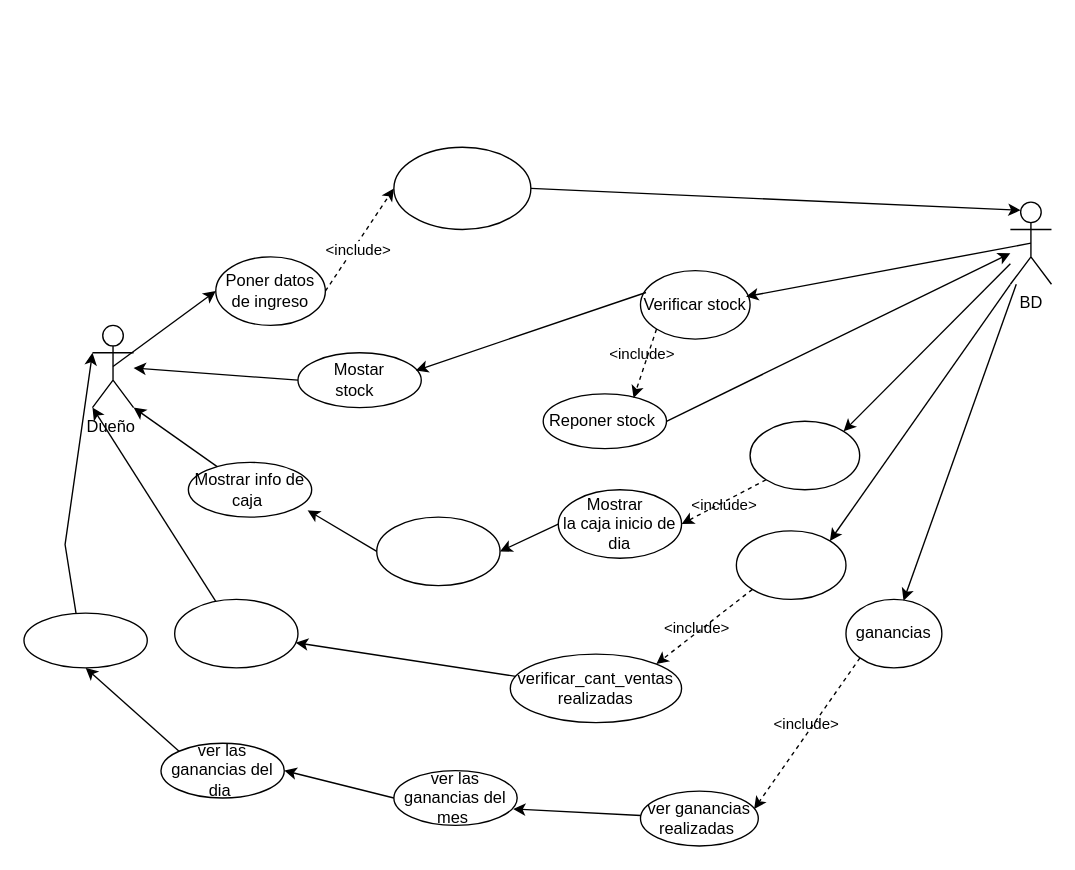
Image size: 1075x870. Some labels were removed from this diagram. Each missing label, with the centre of its shape:
"Iniciar sesion" belongs at pixel 462 187.
"Mostrar la caja final de dia" belongs at pixel 437 551.
"Mostrar las ganancias" belongs at pixel 85 640.
"Ofrecer ver las ventas realizadas" belongs at pixel 235 633.
"Verificar ventas" belongs at pixel 790 564.
"verificar_caja" belongs at pixel 804 455.
